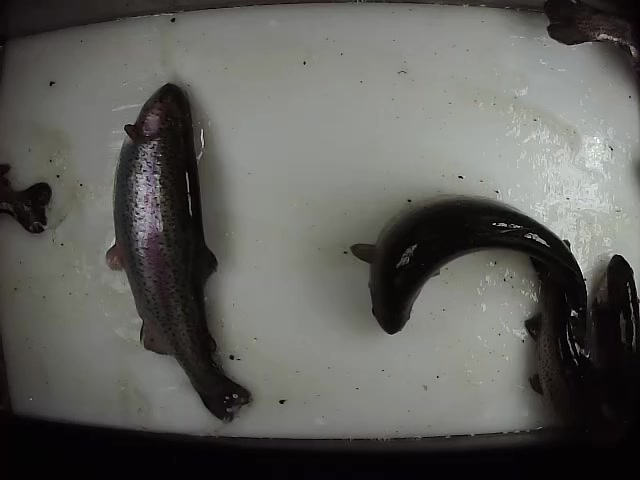fish: (103, 80, 254, 425), (348, 190, 587, 337)
